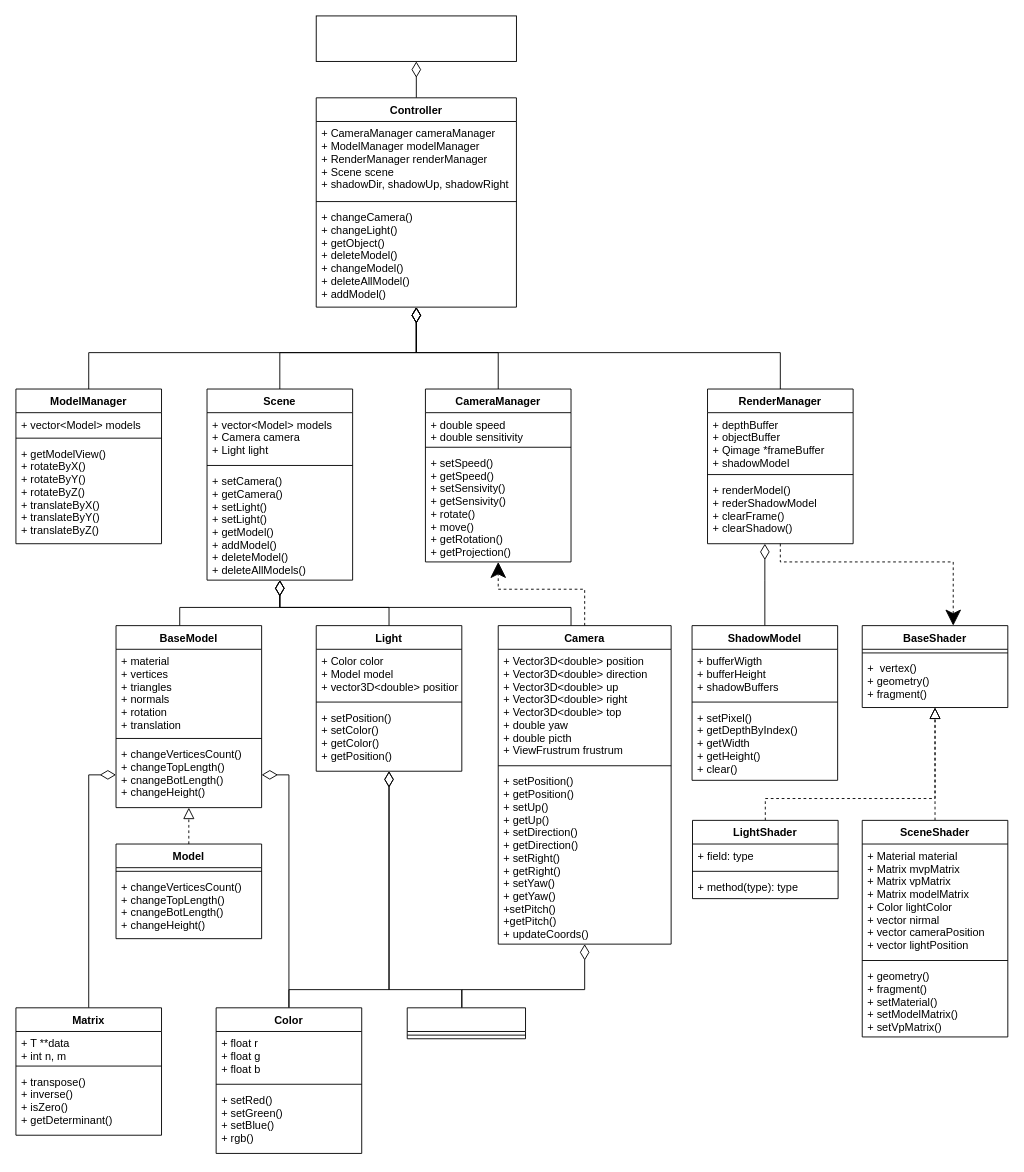
This 1024x1172 diagram has some shape labels left out. The centre of each missing label's shape, as x and y in pixels:
"RenderWidget" belongs at [415,38].
"Vector3D" belongs at [466,1023].
